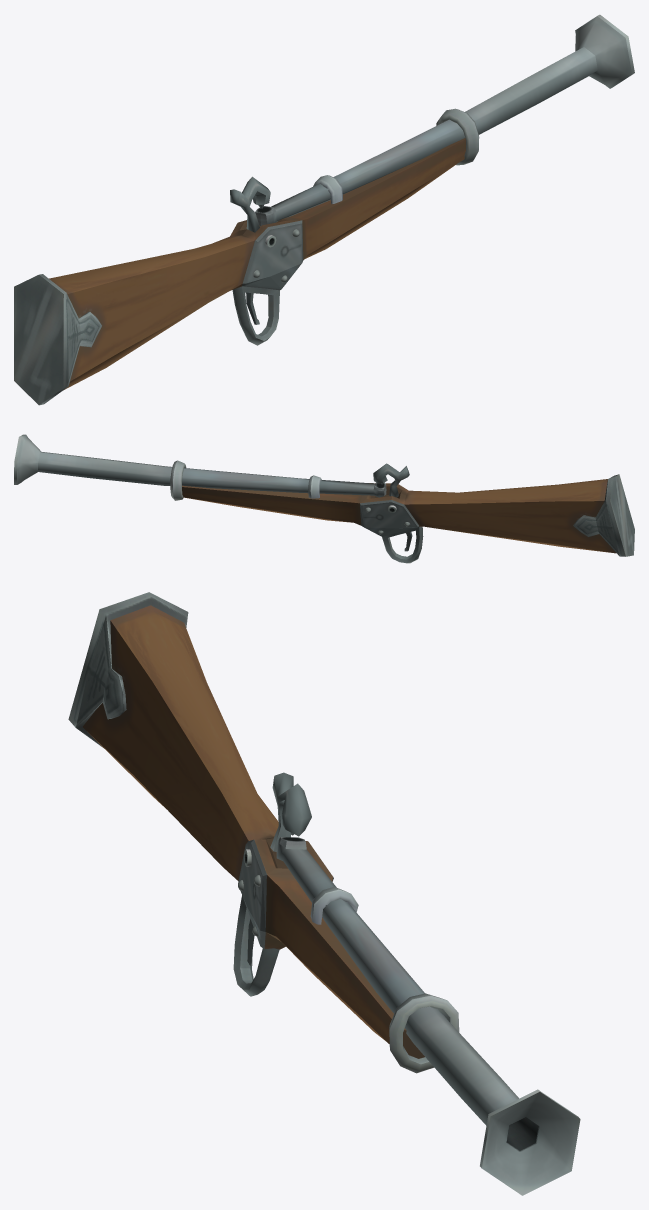
The model's file is gun.FBX.
The picture shows the model from 3 angles, top to bottom: view 1: azimuth 30°, elevation 25°; view 2: azimuth 150°, elevation 25°; view 3: azimuth 270°, elevation 25°; orthographic projection. The views are drawn at different scales.
Parts seen in each view (by area): view 1: gun, Line001; view 2: gun, Line001; view 3: gun, Line001.
Boxes of the visible parts, x1,y1,x2,y2 form: gun: (14, 14, 634, 405); Line001: (230, 176, 270, 232); gun: (14, 434, 634, 563); Line001: (373, 463, 409, 497); gun: (68, 592, 580, 1195); Line001: (270, 772, 311, 851).
Size of the model in its own units: 82.58 by 16.84 by 35.1.
1 material, 1 textured.
